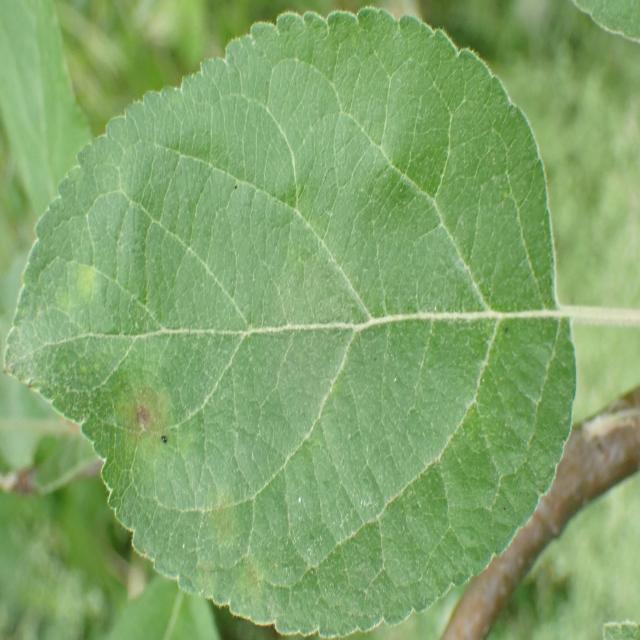scab: (19, 238, 344, 634)
